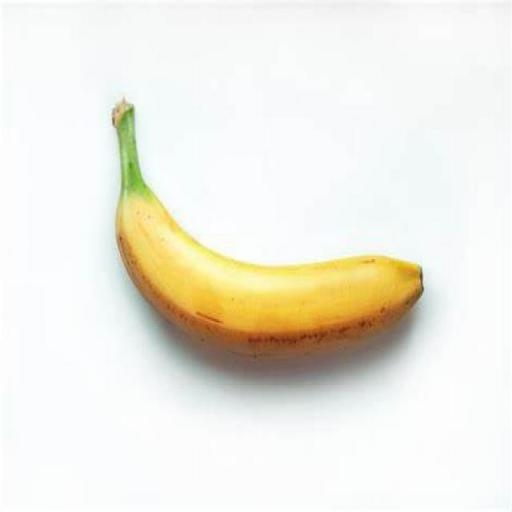fruit: (112, 100, 422, 355)
